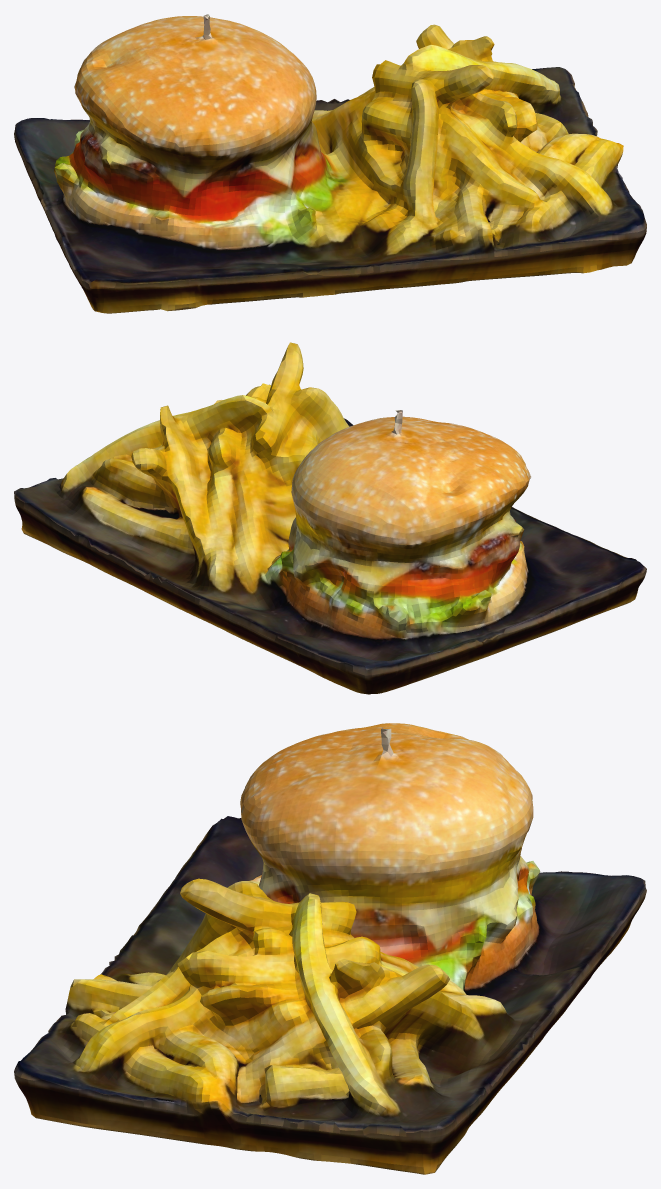
File: hambypapas.glb
3 views of the same model, one above another, from view 1: azimuth 30°, elevation 25°; view 2: azimuth 150°, elevation 25°; view 3: azimuth 270°, elevation 25° (orthographic). The views are drawn at different scales.
Visible parts, largest first — view 1: 3DModel_Custom; view 2: 3DModel_Custom; view 3: 3DModel_Custom.
Boxes of the visible parts, x1,y1,x2,y2 form: 3DModel_Custom: (14, 14, 646, 313); 3DModel_Custom: (14, 342, 646, 694); 3DModel_Custom: (14, 723, 646, 1174).
Size of the model in its own units: 0.817 by 0.2788 by 0.6779.
1 material, 1 textured.
